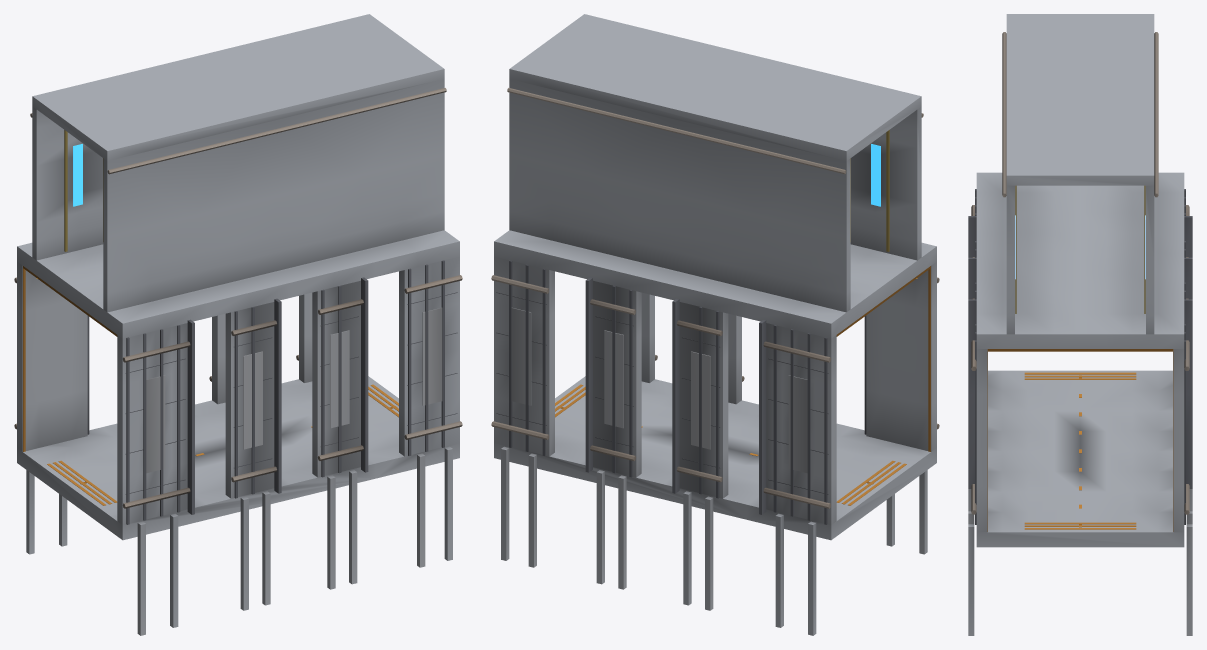
File: 05_airlock_hall.glb
3 views of the same model, side by side, from view 1: azimuth 30°, elevation 25°; view 2: azimuth 150°, elevation 25°; view 3: azimuth 270°, elevation 25° (orthographic).
Parts seen in each view (by area): view 1: airlock_hall_shiphull, airlock_hall_hulldark_nocol, airlock_hall_steel_nocol, airlock_hall_pipe_nocol, airlock_hall_hazard_nocol; view 2: airlock_hall_shiphull, airlock_hall_hulldark_nocol, airlock_hall_steel_nocol, airlock_hall_pipe_nocol, airlock_hall_hazard_nocol; view 3: airlock_hall_shiphull, airlock_hall_hulldark_nocol, airlock_hall_hazard_nocol, airlock_hall_pipe_nocol, airlock_hall_truss_nocol.
Part boxes in pixels (x1=…): airlock_hall_shiphull: x1=17, y1=14, x2=459, y2=635; airlock_hall_hulldark_nocol: x1=87, y1=260, x2=457, y2=524; airlock_hall_steel_nocol: x1=146, y1=307, x2=442, y2=473; airlock_hall_pipe_nocol: x1=14, y1=88, x2=462, y2=508; airlock_hall_hazard_nocol: x1=23, y1=266, x2=398, y2=505; airlock_hall_shiphull: x1=494, y1=14, x2=936, y2=635; airlock_hall_hulldark_nocol: x1=496, y1=260, x2=866, y2=524; airlock_hall_steel_nocol: x1=511, y1=307, x2=807, y2=473; airlock_hall_pipe_nocol: x1=491, y1=88, x2=939, y2=508; airlock_hall_hazard_nocol: x1=555, y1=266, x2=930, y2=505; airlock_hall_shiphull: x1=968, y1=14, x2=1192, y2=635; airlock_hall_hulldark_nocol: x1=968, y1=189, x2=1192, y2=524; airlock_hall_hazard_nocol: x1=987, y1=349, x2=1173, y2=531; airlock_hall_pipe_nocol: x1=971, y1=32, x2=1189, y2=514; airlock_hall_truss_nocol: x1=1015, y1=185, x2=1145, y2=313.
Size of the model in its own units: 70 by 94 by 41.1.
